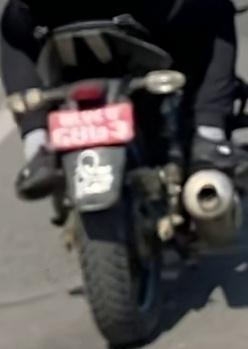license-plate: (50, 104, 155, 147)
